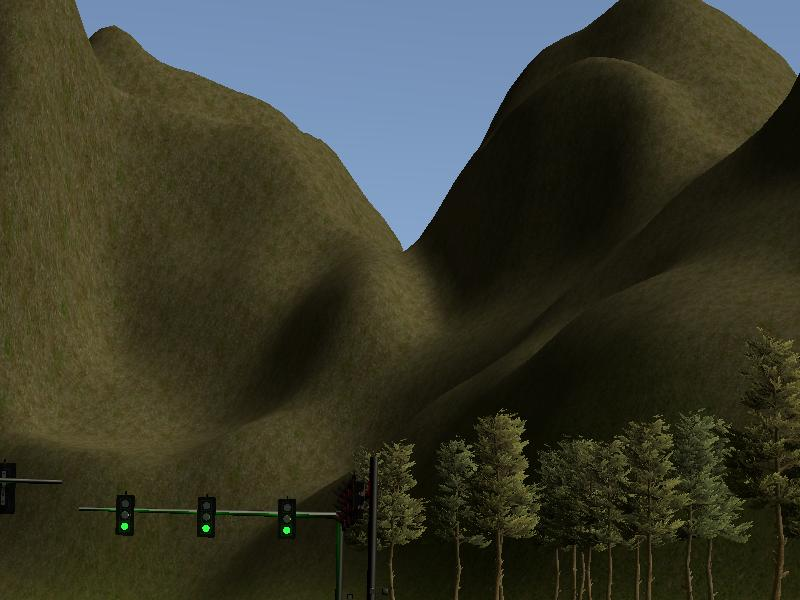Green: (197, 496, 215, 537), (116, 496, 134, 536), (280, 499, 297, 539)
